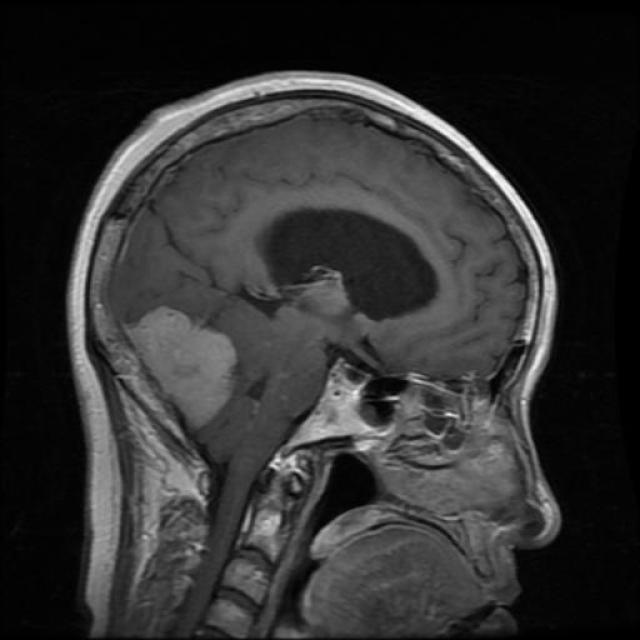meningioma: (119, 309, 238, 431)
